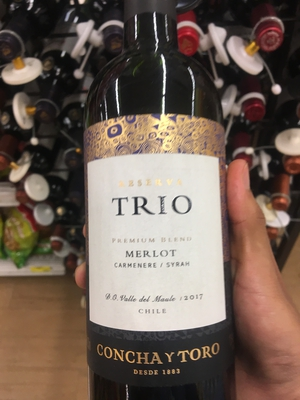trio merlot: (76, 1, 233, 400)
